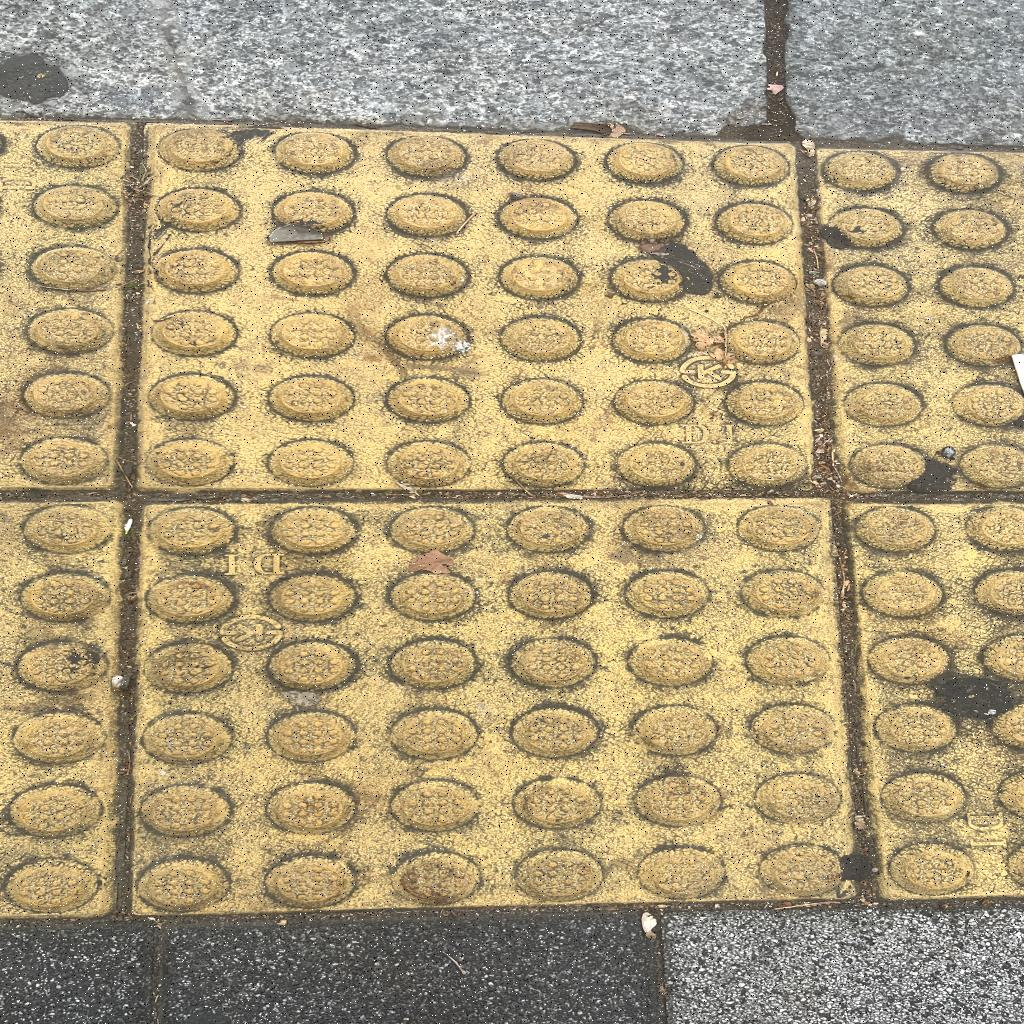Stop block normal: (142, 502, 833, 897)
